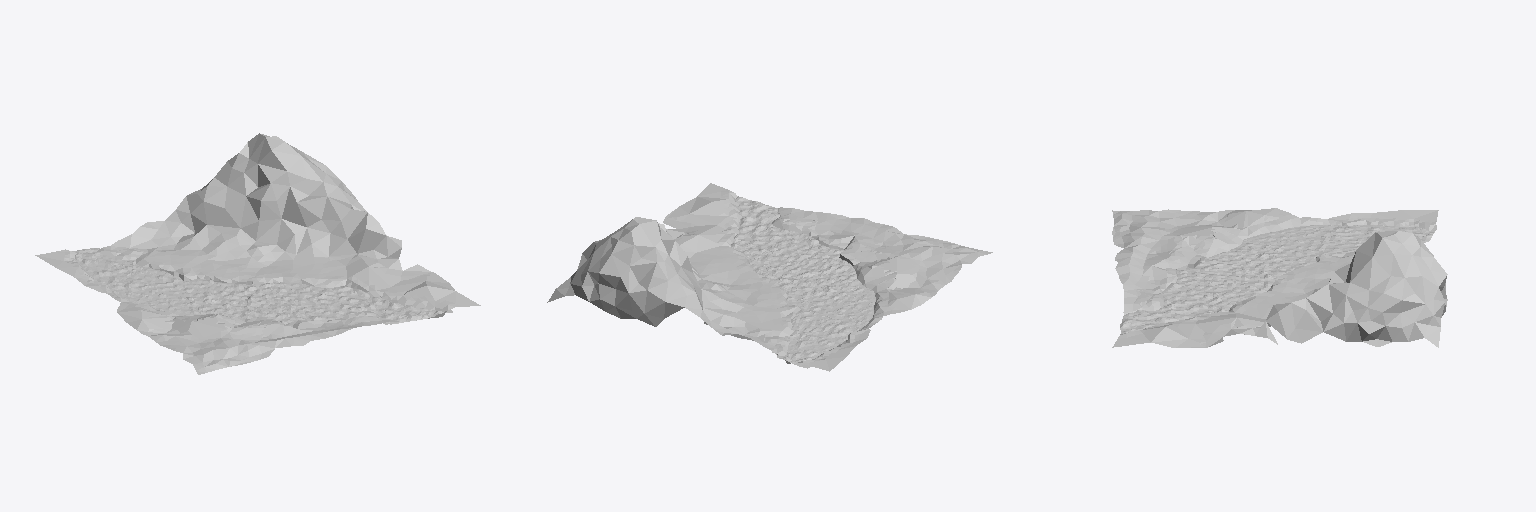
File: nature.obj
3 renders of one model, left to right at view 1: azimuth 30°, elevation 25°; view 2: azimuth 150°, elevation 25°; view 3: azimuth 270°, elevation 25°, orthographic.
Visible parts, largest first — view 1: Ground; view 2: Ground; view 3: Ground.
Boxes of the visible parts, <box> form: Ground: <box>35,133,480,374</box>; Ground: <box>547,183,992,371</box>; Ground: <box>1112,208,1447,347</box>.
Size of the model in its own units: 9.39 by 3.75 by 9.65.